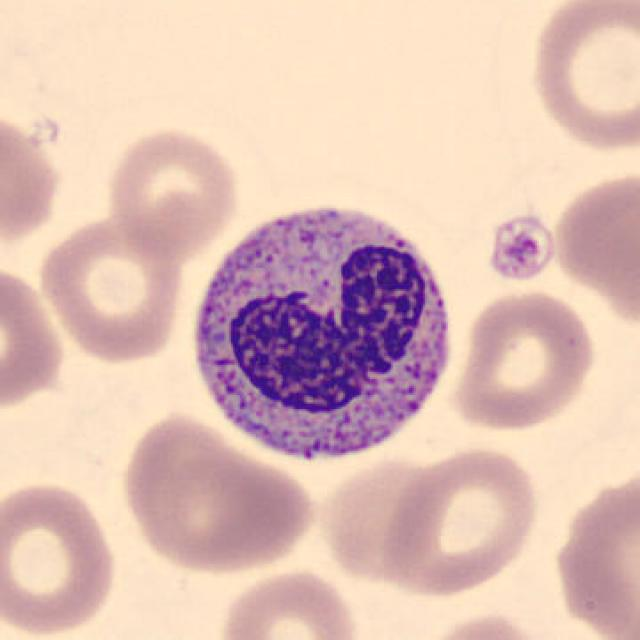Neutrophil: (181, 188, 468, 477)
Platelets: (484, 213, 558, 284)
RBC: (116, 409, 322, 578), (379, 442, 544, 600), (35, 210, 188, 367), (446, 284, 601, 435), (0, 476, 123, 640), (102, 123, 244, 260), (316, 451, 446, 589), (523, 0, 638, 155), (545, 463, 638, 640), (547, 162, 640, 333), (213, 566, 363, 640), (0, 259, 68, 418), (0, 100, 66, 261), (412, 608, 554, 640)
